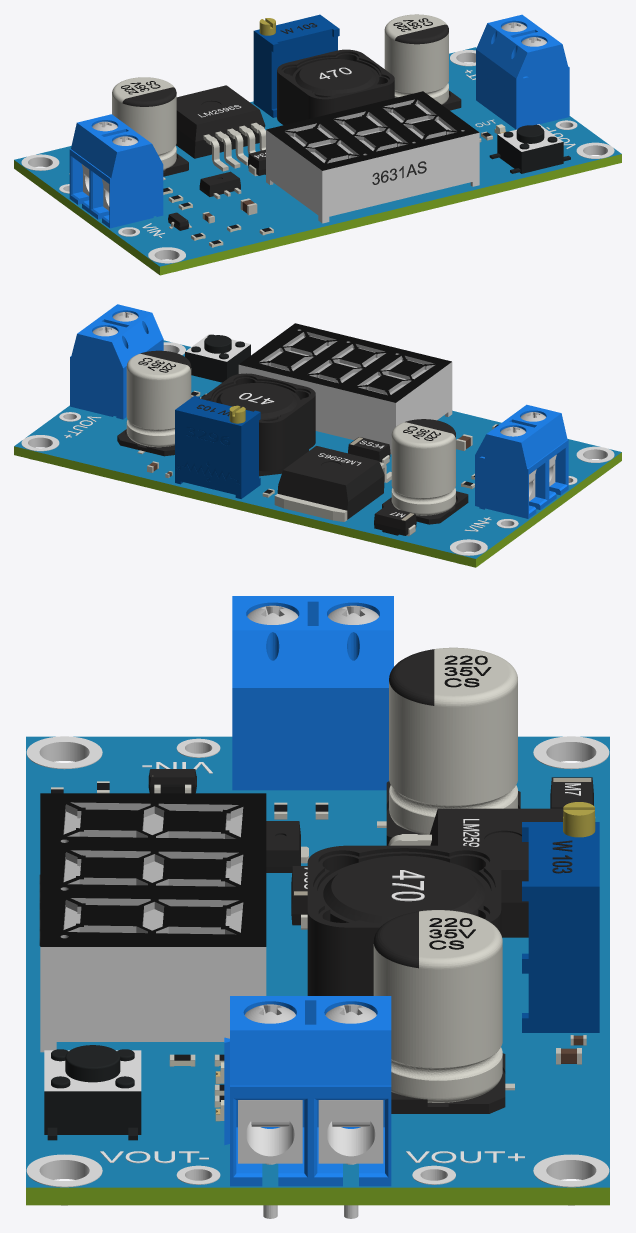
3 renders of one model, top to bottom at view 1: azimuth 30°, elevation 25°; view 2: azimuth 150°, elevation 25°; view 3: azimuth 270°, elevation 25°, orthographic. The views are drawn at different scales.
Visible parts, largest first — view 1: Node15, Node12, Node17, Node10, Node2, Node11, Node14, Node19, Node16, Node6, Node28, Node23 (+3 smaller); view 2: Node17, Node15, Node12, Node2, Node11, Node19, Node10, Node14, Node16, Node6, Node28, Node13 (+3 smaller); view 3: Node15, Node12, Node2, Node17, Node11, Node16, Node10, Node19, Node14, Node6, Node28, Node13 (+4 smaller).
Boxes of the visible parts, x1=… form: Node15: x1=14, y1=47, x2=621, y2=266; Node12: x1=69, y1=14, x2=569, y2=228; Node17: x1=122, y1=24, x2=461, y2=176; Node10: x1=266, y1=130, x2=479, y2=223; Node2: x1=112, y1=14, x2=492, y2=247; Node11: x1=266, y1=91, x2=479, y2=170; Node14: x1=14, y1=154, x2=621, y2=275; Node19: x1=253, y1=14, x2=339, y2=117; Node16: x1=21, y1=50, x2=614, y2=271; Node6: x1=270, y1=99, x2=472, y2=186; Node28: x1=489, y1=124, x2=570, y2=173; Node23: x1=168, y1=171, x2=240, y2=230; Node17: x1=117, y1=350, x2=468, y2=535; Node15: x1=14, y1=340, x2=621, y2=558; Node12: x1=70, y1=304, x2=568, y2=518; Node2: x1=126, y1=353, x2=497, y2=536; Node11: x1=239, y1=323, x2=451, y2=402; Node19: x1=175, y1=396, x2=260, y2=498; Node10: x1=238, y1=362, x2=452, y2=454; Node14: x1=14, y1=446, x2=621, y2=567; Node16: x1=21, y1=334, x2=614, y2=564; Node6: x1=259, y1=329, x2=448, y2=416; Node28: x1=185, y1=334, x2=250, y2=382; Node13: x1=92, y1=312, x2=545, y2=436; Node15: x1=26, y1=736, x2=609, y2=1187; Node12: x1=224, y1=596, x2=393, y2=1186; Node2: x1=51, y1=647, x2=586, y2=1107; Node17: x1=291, y1=649, x2=593, y2=1113; Node11: x1=40, y1=793, x2=266, y2=946; Node16: x1=26, y1=736, x2=609, y2=1218; Node10: x1=40, y1=947, x2=266, y2=1052; Node19: x1=522, y1=822, x2=599, y2=1032; Node14: x1=26, y1=1187, x2=609, y2=1205; Node6: x1=60, y1=802, x2=243, y2=938; Node28: x1=44, y1=1045, x2=141, y2=1140; Node13: x1=244, y1=605, x2=378, y2=1023.
Bounding box in the file's own units: 0.0661 × 0.0152 × 0.0362.
